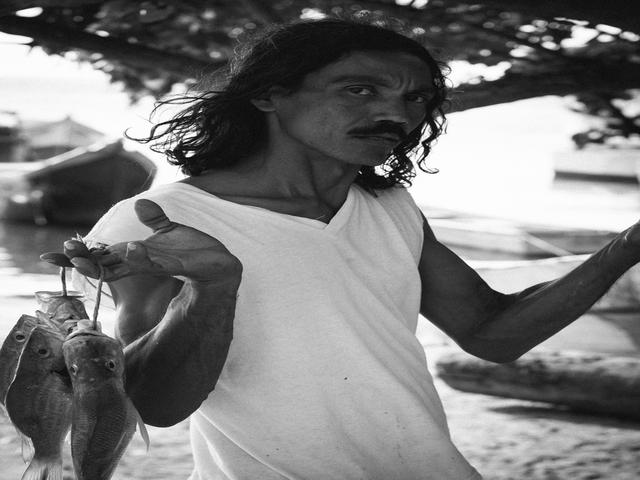fish: (6, 284, 157, 480)
